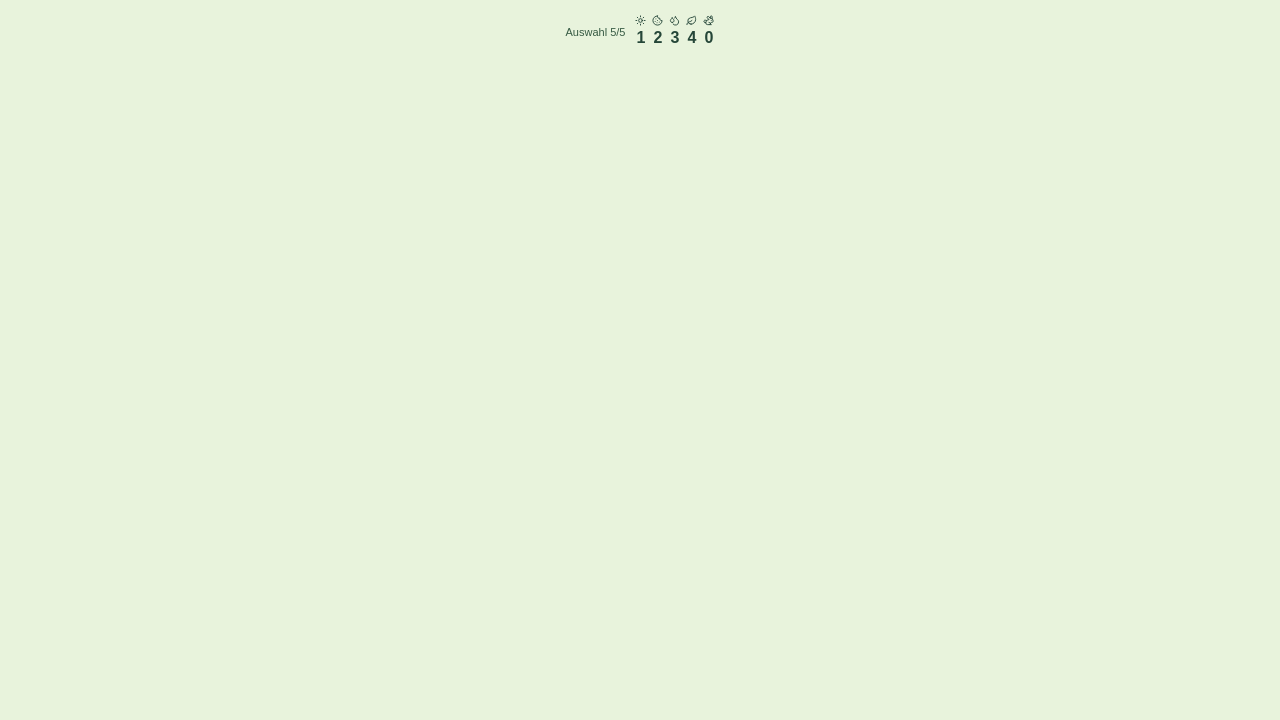
Scenario: compact selection tokens switch icons without changing their slots, identities or removal callback
Later steps or results of the test are not shown.
Expected: the icon with class "lucide-rabbit" is shown, x1=704 y1=14 x2=714 y2=26
Click the button with class "selected-card-token" showing "3".
click(675, 32)  # box x1=670 y1=14 x2=680 y2=50
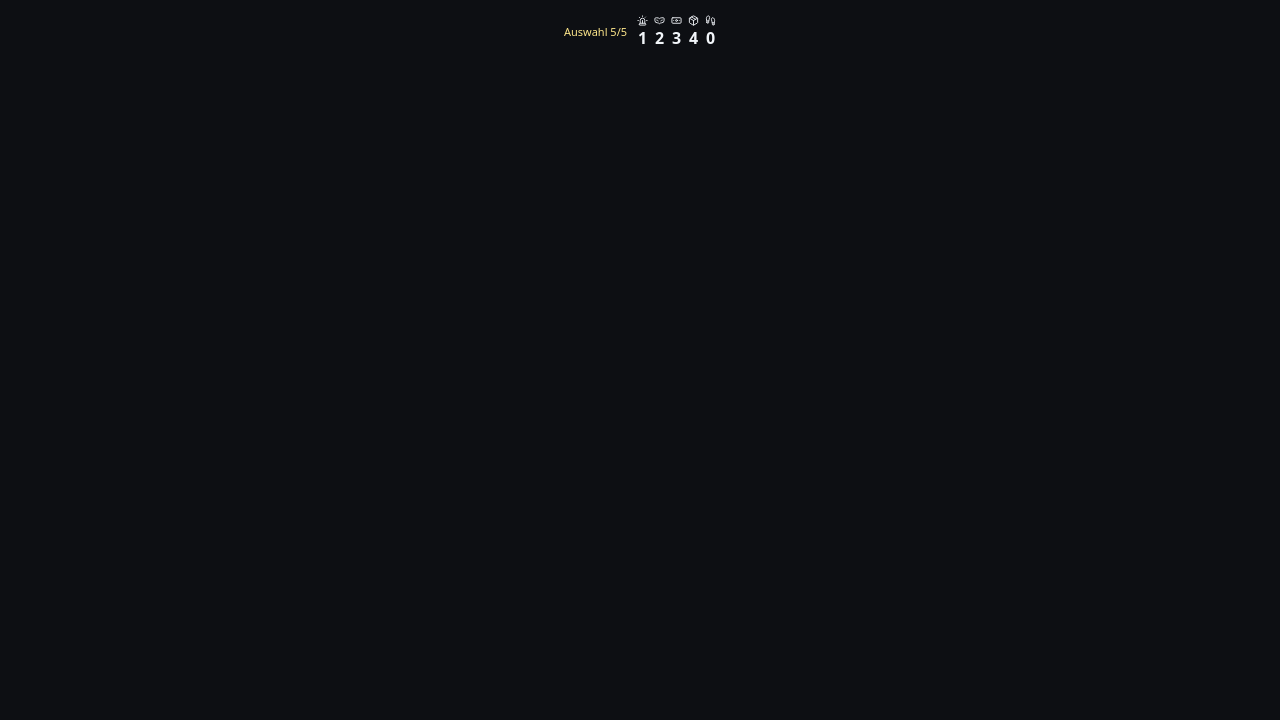
Expected: the number of elements with class "selected-card-token-slot" is 5, x1=637 y1=14 x2=648 y2=50; x1=654 y1=14 x2=665 y2=50; x1=671 y1=14 x2=682 y2=50; x1=688 y1=14 x2=699 y2=50; x1=705 y1=14 x2=716 y2=50
Expected: the icon with class "lucide-footprints" is shown, x1=705 y1=14 x2=716 y2=26
